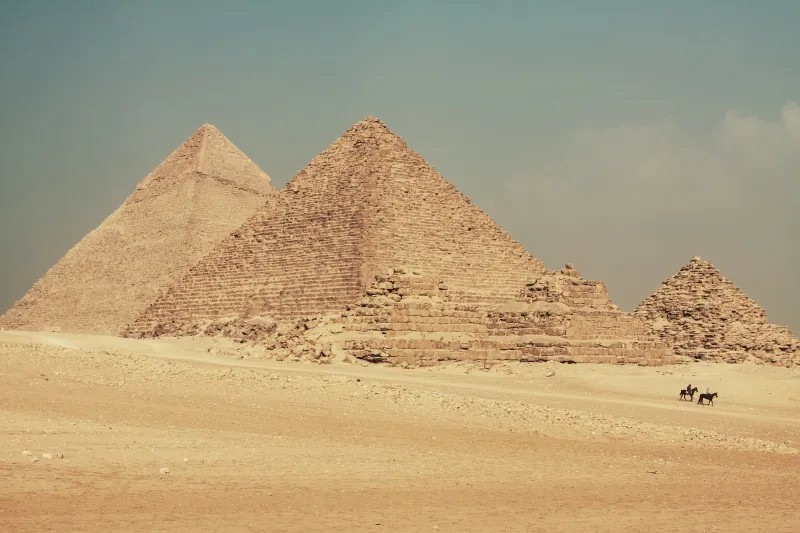Pyramid: (121, 117, 552, 343), (1, 125, 280, 333), (497, 264, 684, 364), (632, 256, 800, 364), (318, 268, 503, 360)
